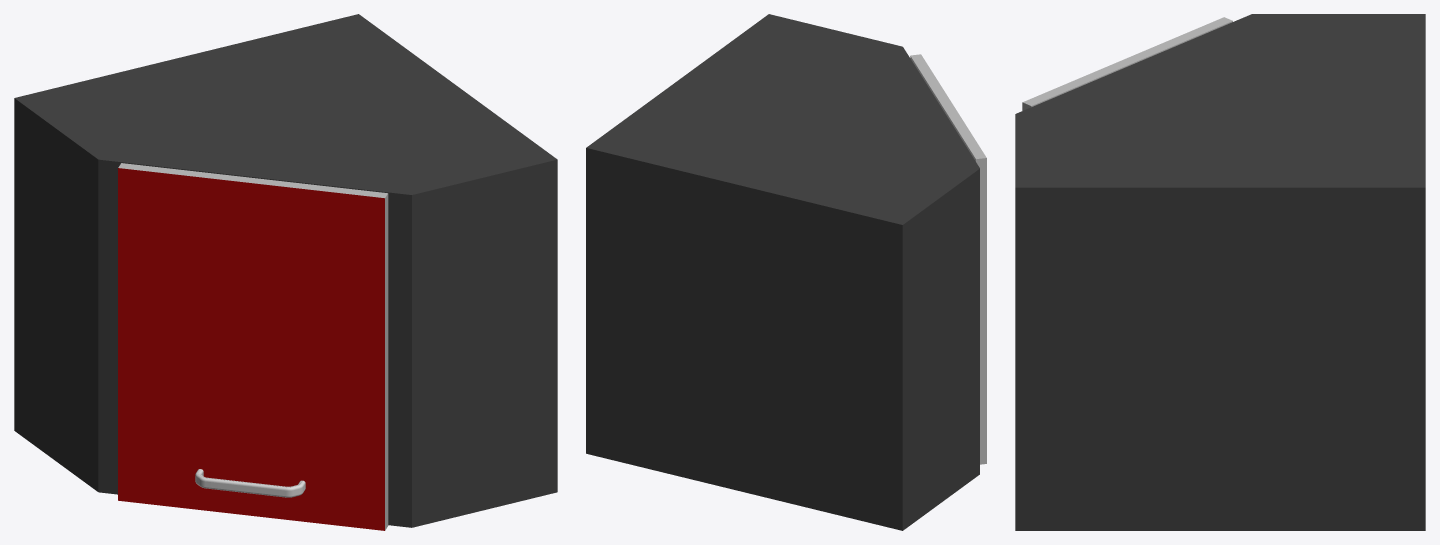
The model's file is pensileAngolo.obj.
The picture shows the model from 3 angles, left to right: view 1: azimuth 30°, elevation 25°; view 2: azimuth 150°, elevation 25°; view 3: azimuth 270°, elevation 25°; orthographic projection. The views are drawn at different scales.
Parts seen in each view (by area): view 1: Line17_1, Box152_3, Box15_2, Loft07_5, Box153_4; view 2: Line17_1, Box153_4, Box15_2; view 3: Line17_1, Box15_2.
Boxes of the visible parts, bbox=[...] form: Line17_1: bbox=[14, 14, 557, 527]; Box152_3: bbox=[118, 168, 384, 530]; Box15_2: bbox=[118, 163, 387, 198]; Loft07_5: bbox=[195, 469, 305, 497]; Box153_4: bbox=[385, 193, 388, 530]; Line17_1: bbox=[586, 14, 979, 530]; Box153_4: bbox=[910, 56, 986, 464]; Box15_2: bbox=[910, 54, 986, 159]; Line17_1: bbox=[1015, 14, 1425, 530]; Box15_2: bbox=[1023, 17, 1232, 105].
Bounding box in the file's own units: 65 × 60 × 65.
